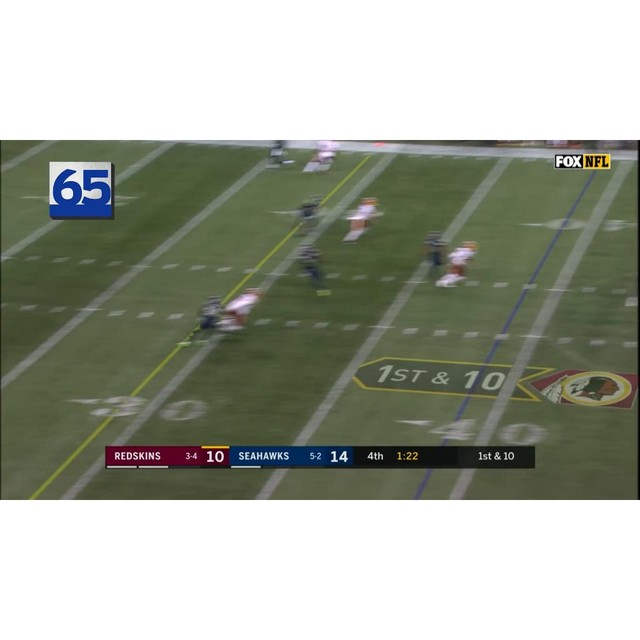american-football-player: (180, 295, 224, 348), (220, 286, 264, 334), (296, 239, 332, 297), (438, 240, 479, 289), (343, 196, 384, 245), (417, 231, 449, 280), (288, 193, 327, 233), (303, 140, 340, 175), (264, 140, 296, 171)
